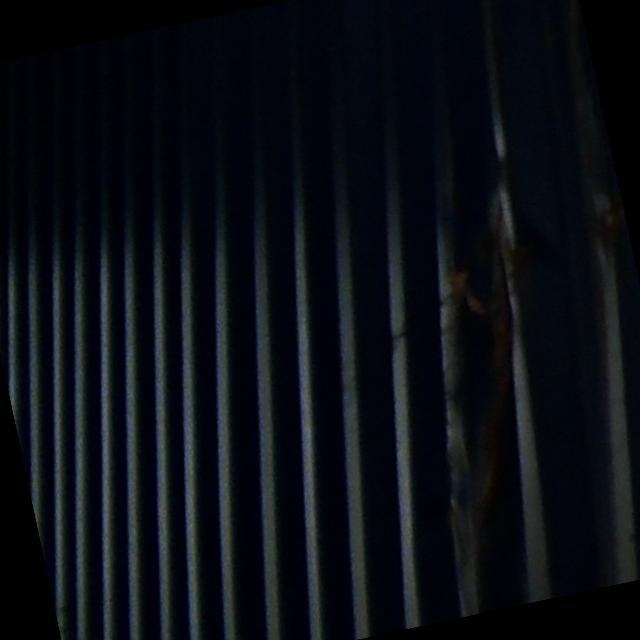rust: (394, 192, 598, 501)
